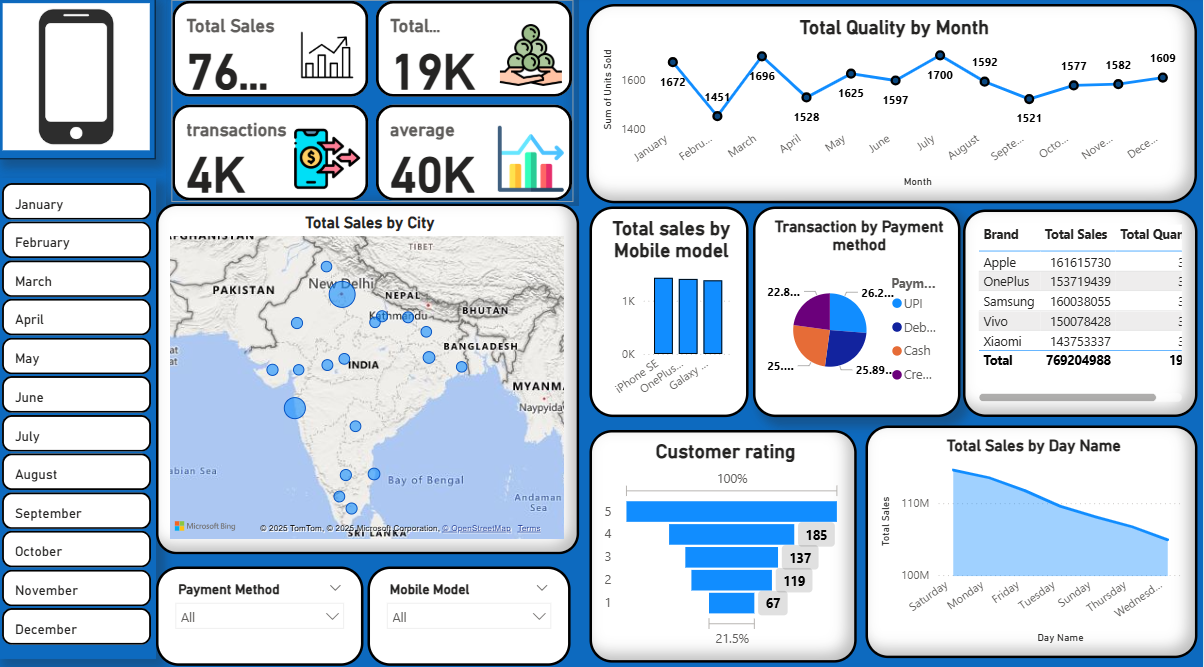

Layout of this report page (visuals, bound fields, positions):
{"tool":"powerbi","page":{"name":"Page 1","canvas":[1280,720],"ordinal":0},"visuals":[{"type":"image","box":[0,0,168,174],"z":0},{"type":"advancedSlicerVisual","fields":{"Values":["sales_data.Date.Variation.Date Hierarchy.Month"]},"box":[0,193.3,168.3,510],"z":1000},{"type":"cardVisual","fields":{"Data":["sales_data.Total Sales","sales_data.Total Quantity","sales_data.transactions","sales_data.average"]},"box":[179.7,0,437.4,224.3],"z":2000},{"type":"lineChart","title":"Total Quality by Month","fields":{"Y":["Sum(sales_data.Units Sold)"],"Category":["sales_data.Date.Variation.Date Hierarchy.Month","sales_data.Date.Variation.Date Hierarchy.Day"]},"box":[625.1,9.5,647.4,211.6],"z":3000},{"type":"map","fields":{"Category":["sales_data.City"],"Size":["sales_data.Total Sales"]},"box":[168.3,221.7,448.3,371.7],"z":4000},{"type":"clusteredColumnChart","title":"Total sales by Mobile model","fields":{"Y":["Sum(sales_data.Units Sold)"],"Category":["sales_data.Mobile Model"]},"box":[628.3,225,168.3,223.3],"z":5000},{"type":"pieChart","title":"Transaction by Payment method","fields":{"Category":["sales_data.Payment Method","sales_data.Mobile Model"],"Y":["sales_data.transactions"]},"box":[801.7,225,220,223.3],"z":6000},{"type":"funnel","title":"Customer rating","fields":{"Category":["sales_data.Customer Ratings"],"Y":["CountNonNull(sales_data.Customer Ratings)"]},"box":[628.3,461.7,283.3,246.7],"z":7000},{"type":"areaChart","fields":{"Category":["sales_data.Day Name"],"Y":["sales_data.Total Sales"]},"box":[921.7,456.7,351.7,246.7],"z":8000},{"type":"tableEx","fields":{"Values":["sales_data.Brand","sales_data.Total Sales","sales_data.Total Quantity"]},"box":[1025,226.7,248.3,220],"z":9000},{"type":"slicer","fields":{"Values":["sales_data.Payment Method"]},"box":[168.3,606.7,220,105],"z":10000},{"type":"slicer","fields":{"Values":["sales_data.Mobile Model"]},"box":[393.3,606.7,215,105],"z":11000}]}

Visuals, with their boxes in screenshot pixels (x1, y1, x2, y2), scaled from the page's 1280x720 canvas onto the 1204x667 screenshot:
image: 0, 0, 158, 161
advancedSlicerVisual - sales_data.Date.Variation.Date Hierarchy.Month: 0, 179, 158, 652
cardVisual - sales_data.Total Sales x sales_data.Total Quantity: 169, 0, 580, 208
"Total Quality by Month" lineChart: 588, 9, 1197, 205
map - sales_data.City x sales_data.Total Sales: 158, 205, 580, 550
"Total sales by Mobile model" clusteredColumnChart: 591, 208, 749, 415
"Transaction by Payment method" pieChart: 754, 208, 961, 415
"Customer rating" funnel: 591, 428, 857, 656
areaChart - sales_data.Day Name x sales_data.Total Sales: 867, 423, 1198, 652
tableEx - sales_data.Brand x sales_data.Total Sales: 964, 210, 1198, 414
slicer - sales_data.Payment Method: 158, 562, 365, 659
slicer - sales_data.Mobile Model: 370, 562, 572, 659
